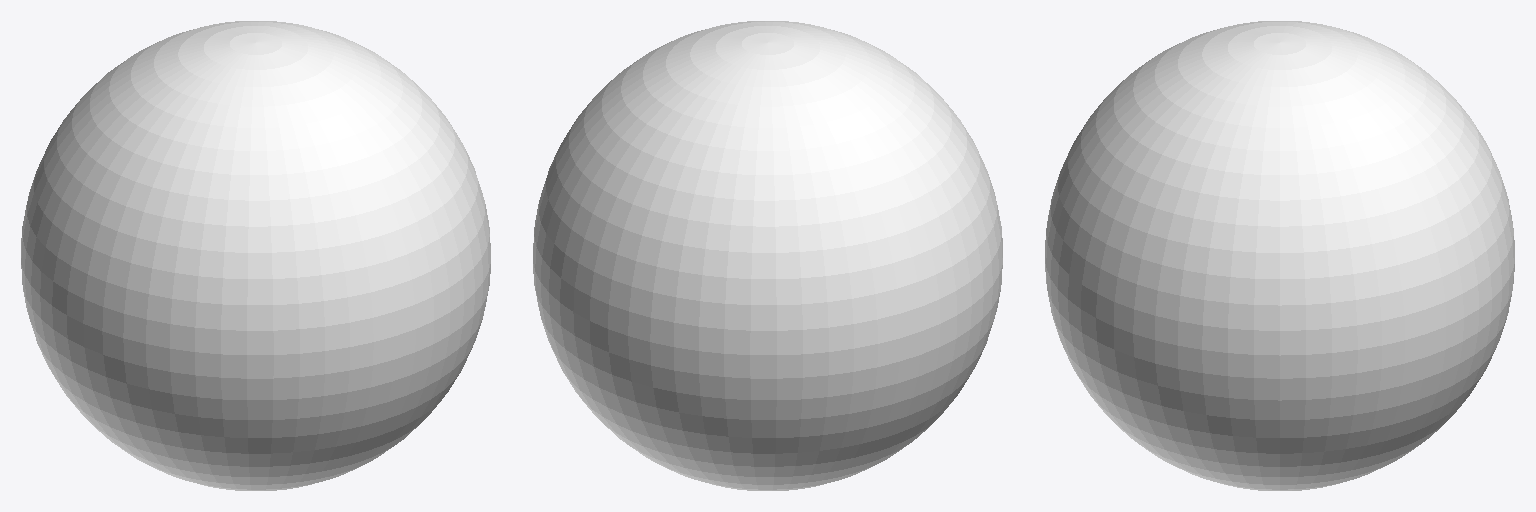
3 views of the same model, side by side, from view 1: azimuth 30°, elevation 25°; view 2: azimuth 150°, elevation 25°; view 3: azimuth 270°, elevation 25° (orthographic).
Visible parts, largest first — view 1: Sphère; view 2: Sphère; view 3: Sphère.
Boxes of the visible parts, box(x1,y1,x2,y2) form: Sphère: box(21, 21, 490, 490); Sphère: box(533, 21, 1002, 490); Sphère: box(1045, 21, 1514, 490).
Size of the model in its own units: 1 by 1 by 1.